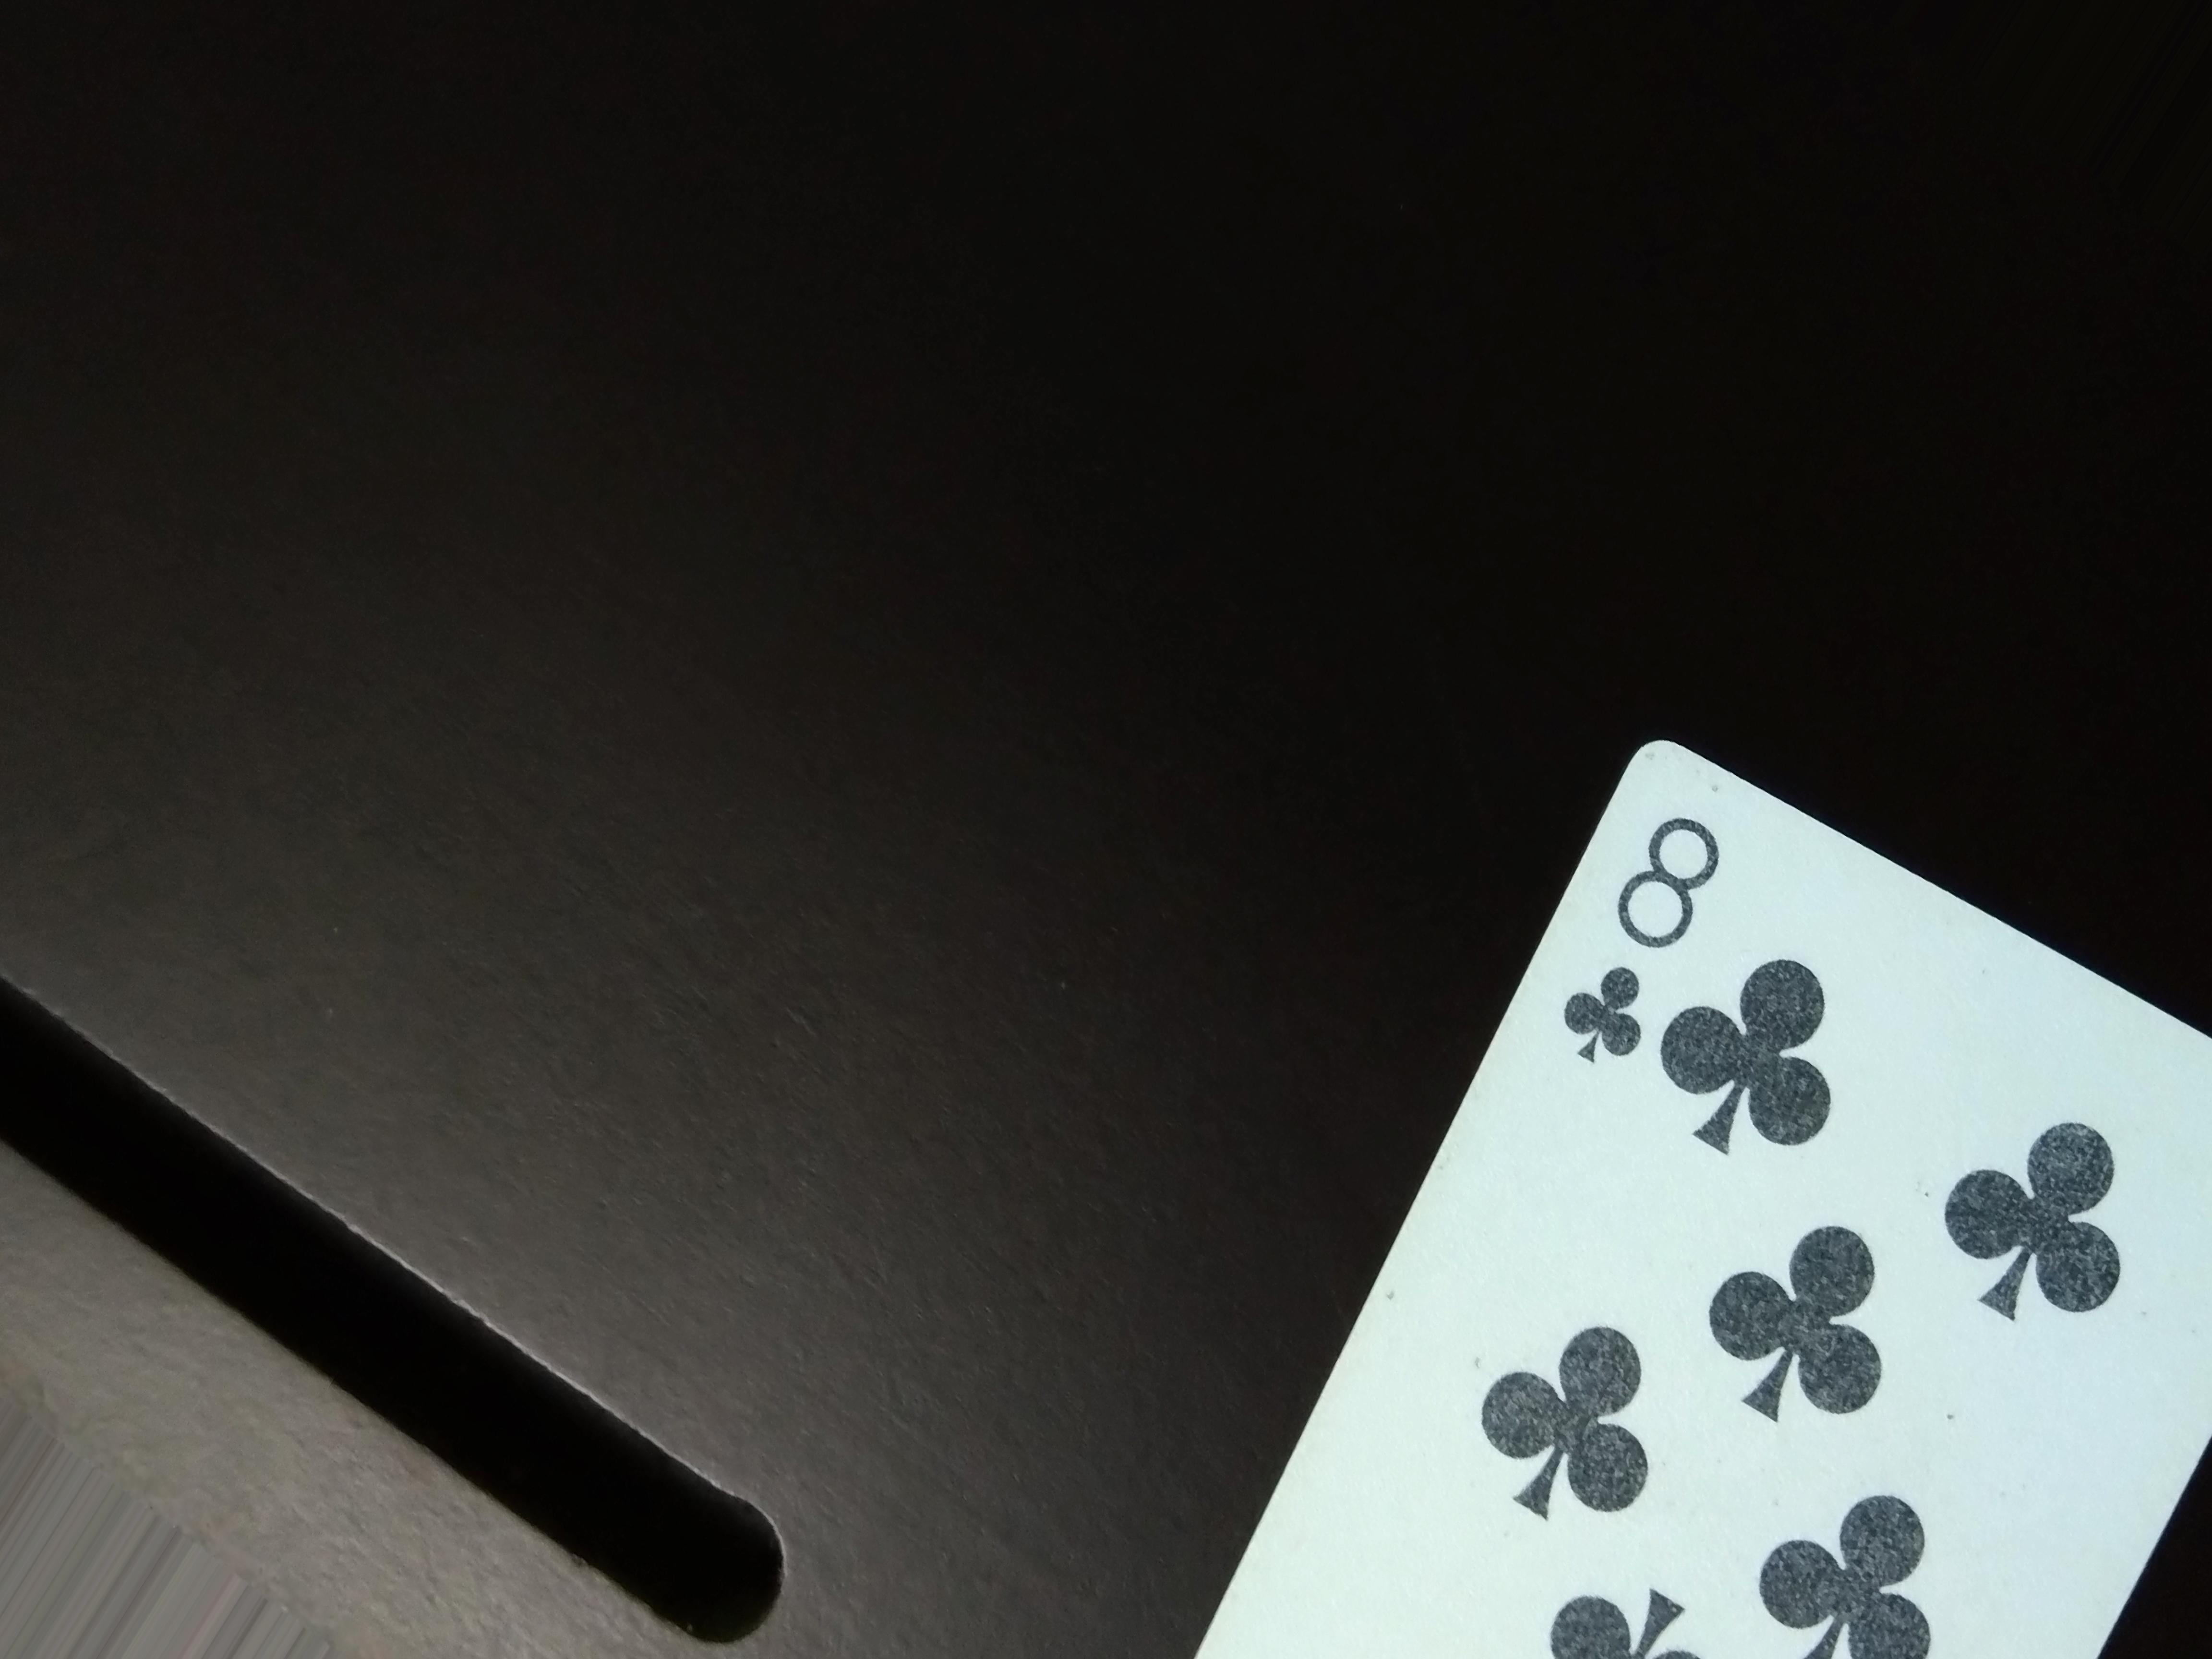8C: (1569, 742, 1728, 1107)
